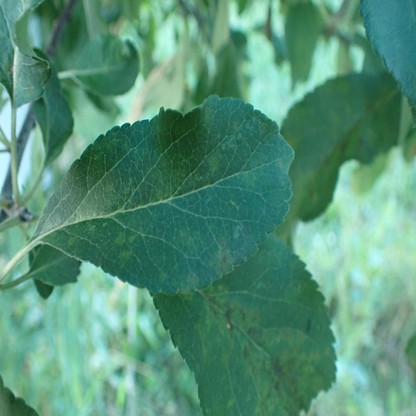scab: (68, 119, 287, 291), (198, 283, 331, 416), (296, 82, 381, 201), (24, 81, 37, 94)
